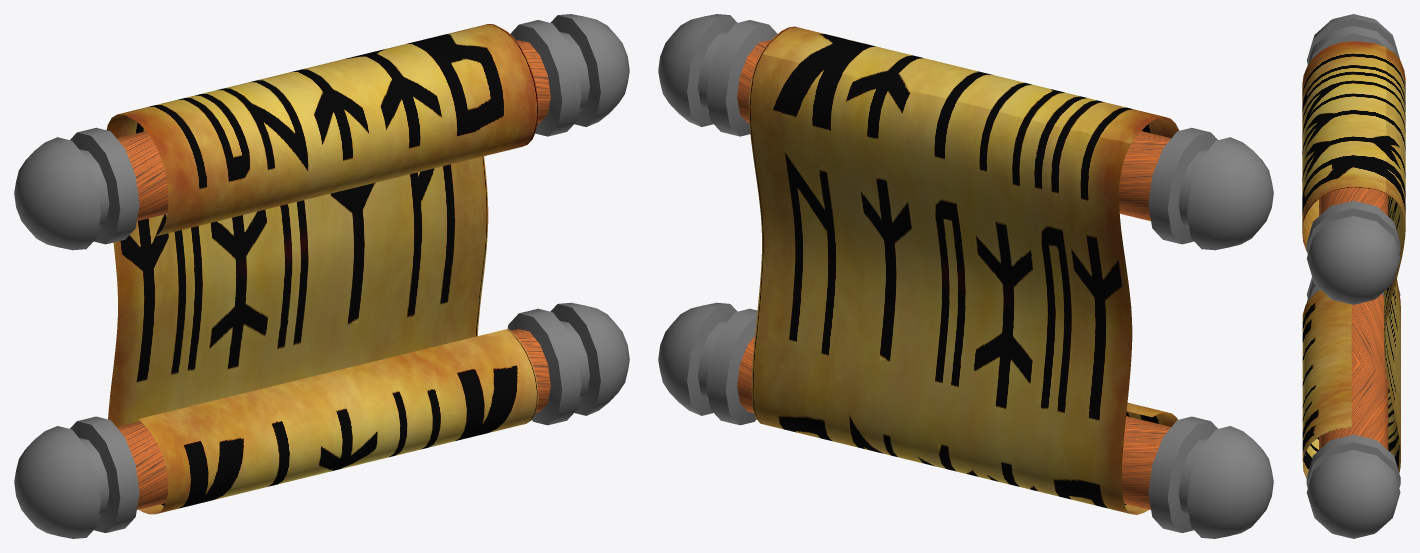
The model's file is scroll.fbx.
The picture shows the model from 3 angles, left to right: view 1: azimuth 30°, elevation 25°; view 2: azimuth 150°, elevation 25°; view 3: azimuth 270°, elevation 25°; orthographic projection. The views are drawn at different scales.
Parts seen in each view (by area): view 1: Paper, Bottom Holders, TopHolders, Top Stick, Bottom Stick; view 2: Paper, TopHolders, Bottom Holders, Bottom Stick, Top Stick; view 3: Paper, TopHolders, Bottom Holders, Bottom Stick, Top Stick.
Part boxes in pixels (left/top/right/bottom): Paper: left=106, top=24, right=538, bottom=514; Bottom Holders: left=14, top=302, right=629, bottom=538; TopHolders: left=14, top=14, right=629, bottom=250; Top Stick: left=117, top=40, right=550, bottom=221; Bottom Stick: left=116, top=329, right=550, bottom=509; Paper: left=748, top=26, right=1179, bottom=514; TopHolders: left=658, top=14, right=1273, bottom=250; Bottom Holders: left=658, top=302, right=1273, bottom=538; Bottom Stick: left=737, top=336, right=1171, bottom=509; Top Stick: left=737, top=40, right=1170, bottom=221; Paper: left=1302, top=41, right=1405, bottom=478; TopHolders: left=1306, top=14, right=1400, bottom=304; Bottom Holders: left=1306, top=277, right=1400, bottom=538; Bottom Stick: left=1319, top=294, right=1388, bottom=449; Top Stick: left=1319, top=187, right=1388, bottom=215.
Bounding box in the file's own units: 81.05 × 51.22 × 14.95.
3 materials, 2 textured.
